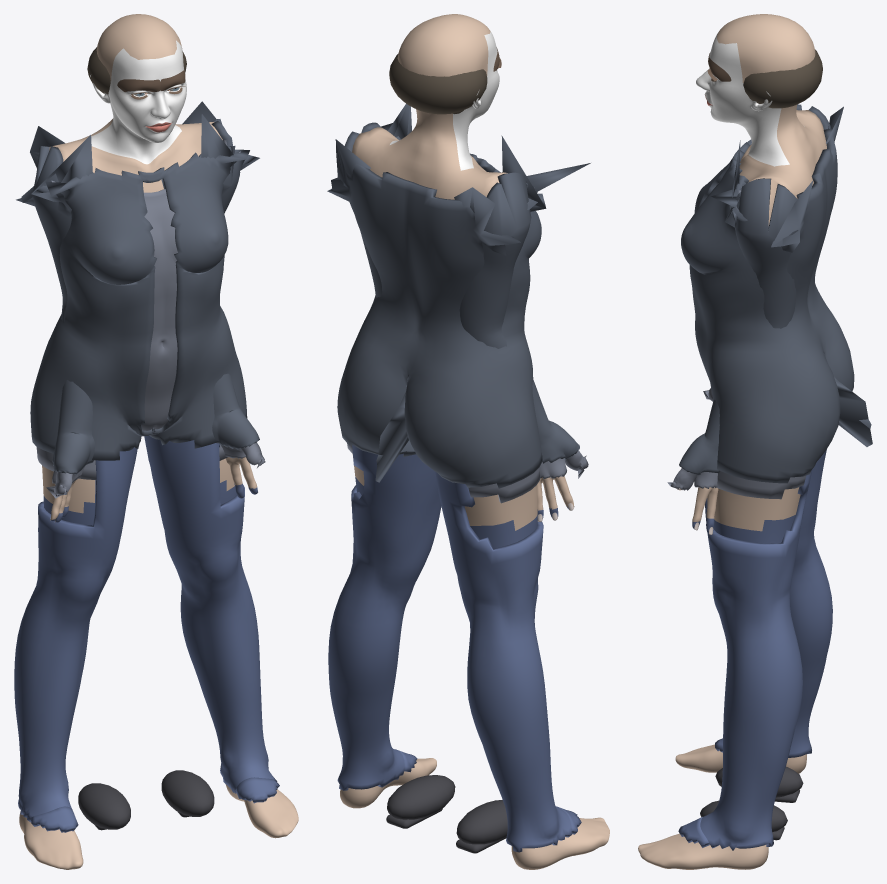
The model's file is hm_ped_noah_v17.glb.
3 renders of one model, left to right at view 1: azimuth 30°, elevation 25°; view 2: azimuth 150°, elevation 25°; view 3: azimuth 270°, elevation 25°, orthographic. The views are drawn at different scales.
Parts seen in each view (by area): view 1: hm_ped_noah; view 2: hm_ped_noah; view 3: hm_ped_noah.
Part boxes in pixels (x1,y1,x2,y2): hm_ped_noah: [14, 14, 298, 869]; hm_ped_noah: [327, 14, 609, 869]; hm_ped_noah: [638, 14, 872, 869].
Bounding box in the file's own units: 0.5697 × 1.78 × 0.4723.
